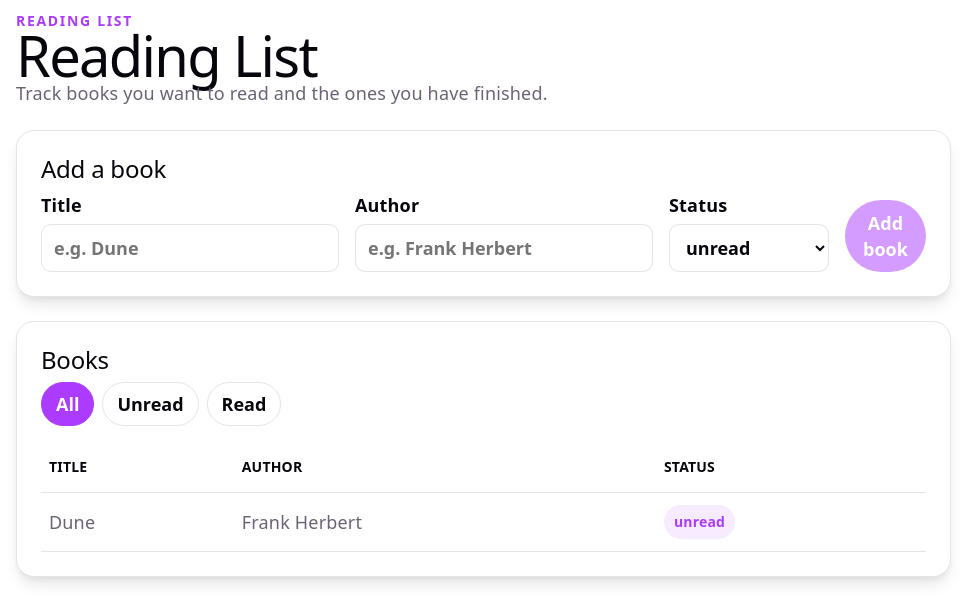
refetches books for the selected status filter
Expected: the text "Dune" is shown, [41, 493, 234, 552]
Click the button "Read": x=244, y=404 [207, 382, 281, 426]
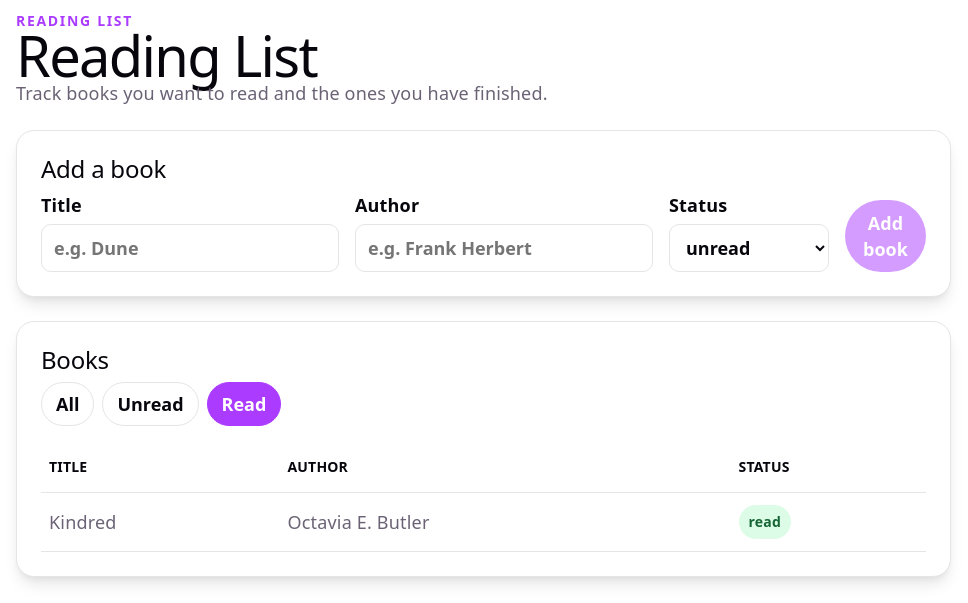
Result: the text "Kindred" is shown at [41, 493, 280, 552]
Click the button "Unread": x=150, y=404 [102, 382, 199, 426]
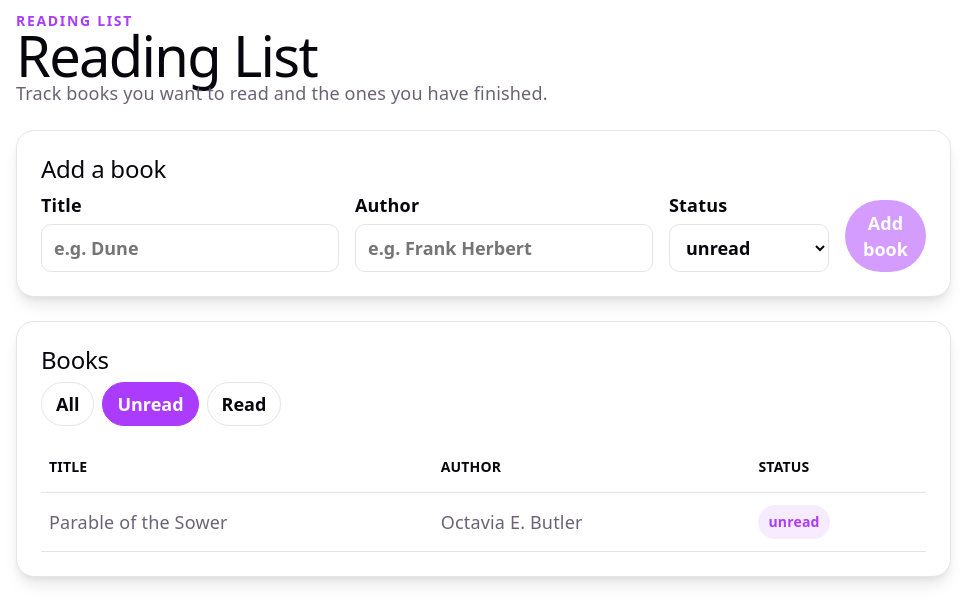
Result: the text "Parable of the Sower" is shown at [41, 493, 433, 552]
